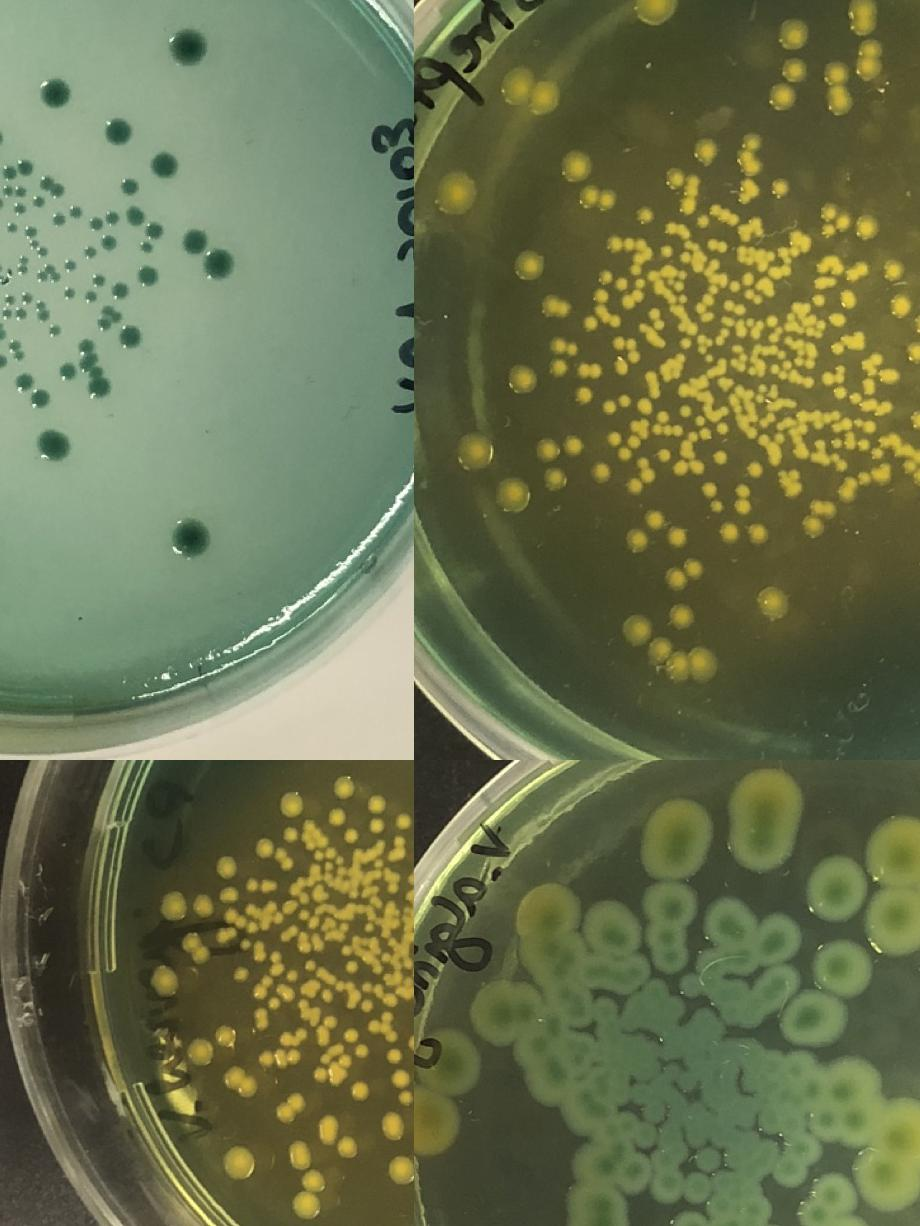pddamselae: (78, 338, 114, 400), (202, 245, 238, 281), (171, 519, 207, 555), (170, 28, 206, 64), (99, 114, 135, 150), (36, 74, 72, 110), (34, 424, 70, 460), (136, 221, 162, 256), (24, 224, 48, 260), (0, 291, 27, 321), (181, 226, 209, 254), (152, 151, 178, 179), (117, 323, 143, 351), (1, 158, 33, 179), (36, 262, 60, 282), (13, 251, 30, 275), (1, 182, 26, 197), (7, 338, 24, 360), (14, 373, 33, 391), (138, 266, 156, 284), (126, 207, 144, 225), (110, 281, 128, 299), (96, 314, 114, 332), (121, 177, 139, 194), (60, 363, 78, 380), (32, 390, 50, 406), (100, 233, 114, 247), (90, 274, 104, 288), (88, 216, 102, 230), (84, 244, 98, 258), (82, 290, 96, 304), (67, 203, 81, 217), (62, 286, 76, 300), (62, 256, 76, 270), (52, 211, 66, 225), (46, 323, 60, 337), (40, 174, 54, 188), (36, 308, 50, 322), (12, 202, 26, 216), (106, 209, 118, 223), (32, 194, 46, 206), (18, 292, 32, 304), (4, 222, 18, 234), (0, 354, 5, 368), (0, 326, 4, 340)
sinniae: (646, 636, 718, 678), (503, 70, 558, 111), (768, 54, 809, 108), (606, 235, 652, 274), (811, 408, 855, 448), (436, 172, 478, 211), (768, 331, 799, 381), (756, 419, 788, 465), (738, 156, 766, 205), (802, 500, 838, 537), (666, 556, 705, 589), (819, 199, 854, 235), (855, 39, 883, 81), (578, 183, 618, 210), (612, 336, 641, 373), (628, 455, 656, 493), (594, 287, 621, 326), (848, 0, 876, 36), (497, 476, 528, 508), (506, 364, 538, 394), (562, 150, 592, 180), (460, 434, 490, 464), (780, 229, 812, 257), (651, 409, 684, 436), (830, 330, 866, 354), (633, 0, 673, 21), (514, 248, 542, 278), (834, 259, 870, 282), (827, 90, 855, 118), (823, 57, 851, 85), (780, 20, 808, 48), (759, 589, 787, 617), (666, 602, 694, 630), (624, 614, 652, 642), (810, 450, 847, 471), (792, 408, 808, 456), (709, 202, 741, 225), (894, 443, 920, 471), (601, 392, 632, 414), (848, 390, 876, 413), (625, 276, 645, 308), (616, 436, 640, 462), (727, 271, 754, 294), (859, 351, 883, 376), (795, 342, 818, 368), (734, 482, 752, 514), (820, 362, 846, 384), (780, 467, 802, 493), (744, 380, 766, 404), (551, 336, 578, 355), (674, 458, 706, 474), (769, 174, 791, 197), (890, 296, 912, 318), (883, 258, 905, 280), (856, 216, 878, 238), (748, 522, 770, 544), (741, 131, 763, 153), (718, 520, 740, 542), (695, 138, 717, 160), (666, 524, 688, 546), (626, 528, 648, 550), (590, 462, 612, 484), (548, 356, 570, 378), (544, 467, 566, 489), (540, 294, 562, 316), (666, 165, 687, 188), (745, 316, 765, 340), (664, 220, 688, 240), (838, 476, 856, 502), (722, 298, 748, 316), (563, 433, 585, 454), (538, 439, 560, 460), (644, 508, 666, 528), (705, 236, 730, 253), (646, 370, 660, 399), (746, 358, 766, 377), (838, 288, 858, 306), (577, 364, 604, 377), (649, 307, 664, 330), (854, 416, 876, 431), (828, 310, 846, 328), (744, 287, 762, 305), (689, 427, 712, 441), (878, 432, 900, 446), (746, 460, 764, 477), (772, 263, 791, 279), (906, 339, 920, 360), (882, 368, 900, 384), (638, 206, 656, 222), (907, 407, 920, 429), (712, 448, 729, 464), (759, 412, 774, 428), (680, 197, 696, 212), (582, 314, 598, 329), (702, 480, 716, 497), (710, 497, 724, 513), (638, 398, 652, 414), (606, 430, 620, 446), (578, 386, 592, 402), (698, 333, 708, 355), (834, 385, 848, 399), (812, 292, 826, 306), (695, 213, 709, 227), (678, 403, 692, 417), (659, 244, 673, 258), (658, 448, 672, 462), (880, 400, 894, 412), (876, 469, 890, 481), (862, 378, 876, 390), (858, 471, 872, 483), (716, 422, 730, 434), (915, 311, 920, 333)
valgino: (866, 814, 920, 953)
vharveyi: (288, 1137, 326, 1221), (316, 1112, 362, 1160), (254, 824, 300, 872), (220, 1142, 256, 1182), (221, 1062, 260, 1098), (273, 1090, 309, 1124), (366, 1008, 398, 1043), (158, 886, 187, 923), (183, 930, 212, 966), (388, 1067, 414, 1107), (386, 1150, 414, 1187), (184, 1035, 216, 1067), (363, 794, 387, 834), (380, 1109, 408, 1143), (277, 787, 306, 819), (150, 964, 179, 996), (330, 773, 356, 801), (312, 845, 338, 870), (215, 1020, 238, 1048), (215, 852, 238, 880), (192, 893, 216, 917), (348, 1080, 371, 1104), (326, 804, 348, 826), (252, 1006, 270, 1030), (286, 1046, 306, 1066), (231, 964, 251, 984), (255, 1046, 274, 1066), (384, 1046, 404, 1064), (341, 824, 359, 844), (406, 1033, 414, 1077), (312, 1065, 329, 1083), (394, 812, 413, 828), (284, 969, 301, 983), (360, 996, 374, 1012), (354, 1043, 370, 1057), (320, 988, 336, 1002), (344, 961, 360, 974), (344, 1028, 358, 1042), (338, 1054, 352, 1068), (270, 949, 284, 963), (267, 995, 281, 1009), (245, 919, 259, 933), (302, 958, 318, 970), (338, 944, 353, 956), (262, 974, 274, 988), (238, 938, 252, 950), (273, 910, 285, 923), (364, 921, 376, 933), (298, 908, 310, 920), (280, 930, 292, 942)
